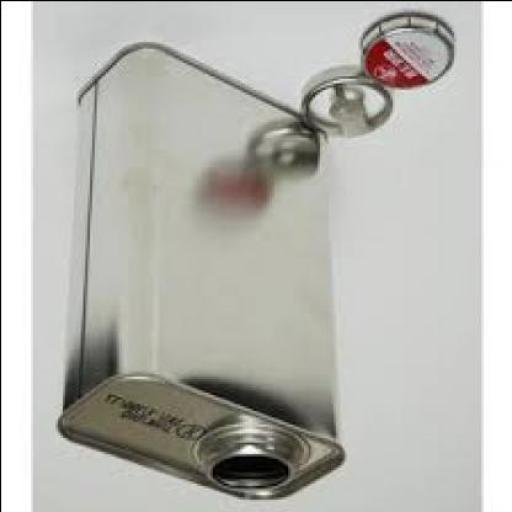metal: (52, 43, 342, 503), (359, 16, 453, 91), (300, 68, 392, 136)
